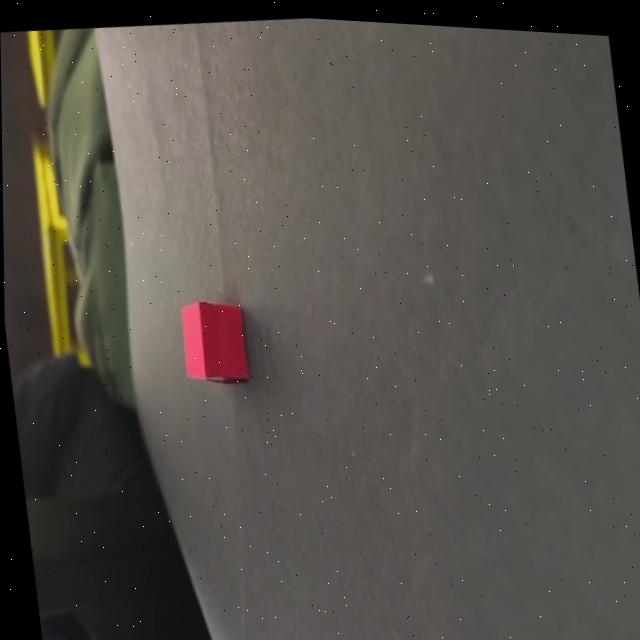red block: (175, 295, 250, 390)
